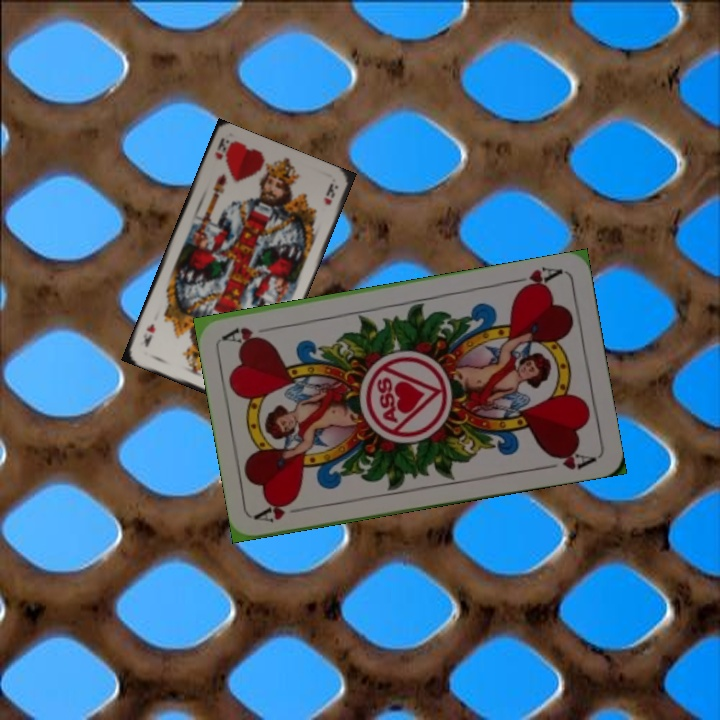HA: (506, 263, 565, 295), (253, 496, 312, 526)
HK: (211, 135, 233, 162)
